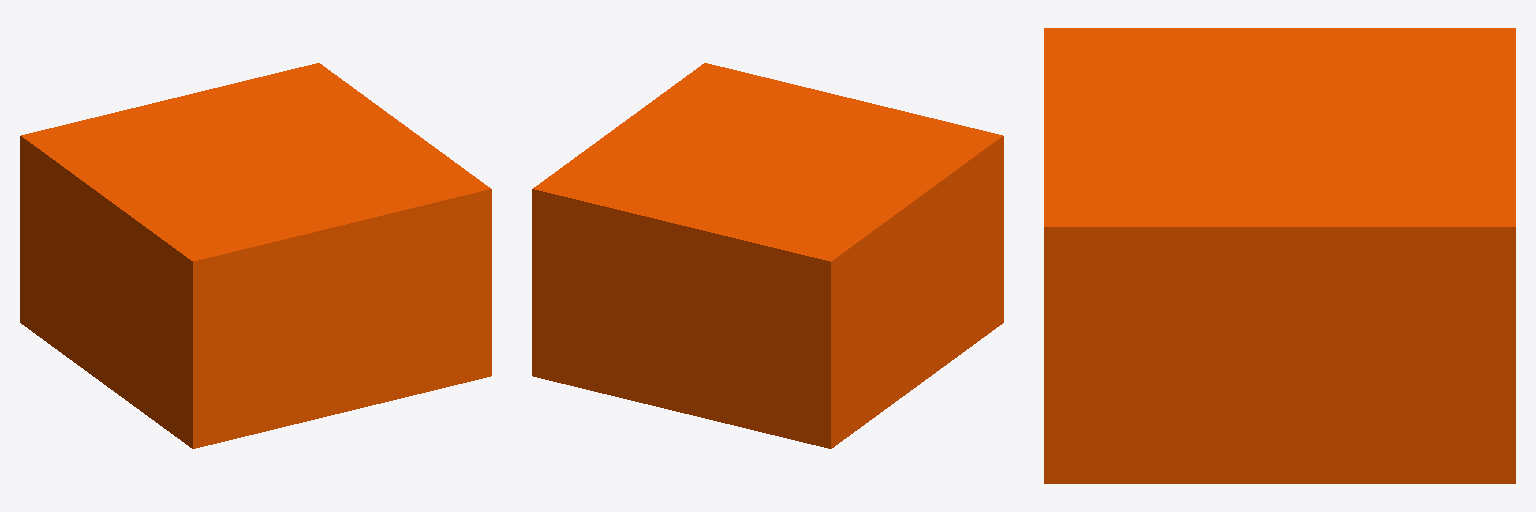
URDF robot description (boxbot):
<?xml version="1.0" ?>
<!-- =================================================================================== -->
<!-- |    This document was autogenerated by xacro from boxbot.xacro                   | -->
<!-- |    EDITING THIS FILE BY HAND IS NOT RECOMMENDED                                 | -->
<!-- =================================================================================== -->
<!-- Revolute-Revolute Manipulator -->
<robot name="boxbot" xmlns:xacro="http://www.ros.org/wiki/xacro">
  <!-- Link 1 -->
  <!-- Link1 -->
  <gazebo reference="link1">
    <mu1>0.2</mu1>
    <mu2>0.2</mu2>
    <kp value="10000000.0"/>
    <kd value="1.0"/>
    <fdir1 value="1 0 0"/>
    <minDepth>0.003</minDepth>
    <turnGravityOff>false</turnGravityOff>
    <material>Gazebo/Orange</material>
  </gazebo>
  <gazebo>
    <plugin filename="libgazebo_ros_force_based_move.so" name="base_drive_controller">
      <robotNamespace/>
      <commandTopic>cmd_vel</commandTopic>
      <odometryTopic>odom</odometryTopic>
      <publishOdometryTf>true</publishOdometryTf>
      <odometryFrame>odom</odometryFrame>
      <odometryRate>20.0</odometryRate>
      <robotBaseFrame>link1</robotBaseFrame>
      <!-- all these can be changed in dynamic reconfigure -->
      <yaw_velocity_p_gain>0.0</yaw_velocity_p_gain>
      <yaw_velocity_i_gain>0.0</yaw_velocity_i_gain>
      <yaw_velocity_i_clamp>00.0</yaw_velocity_i_clamp>
      <x_velocity_p_gain>0.0</x_velocity_p_gain>
      <x_velocity_i_gain>0.0</x_velocity_i_gain>
      <x_velocity_i_clamp>0.0</x_velocity_i_clamp>
      <y_velocity_p_gain>0.0</y_velocity_p_gain>
      <y_velocity_i_gain>0.0</y_velocity_i_gain>
      <y_velocity_i_clamp>0.0</y_velocity_i_clamp>
    </plugin>
  </gazebo>
  <material name="orange">
    <color rgba="1.0 0.423529411765 0.0392156862745 1.0"/>
  </material>
  <!-- Base Link -->
  <link name="link1">
    <collision>
      <origin rpy="0 0 0" xyz="0 0 0.15"/>
      <geometry>
        <box size="0.5 0.5 0.3"/>
      </geometry>
    </collision>
    <visual>
      <origin rpy="0 0 0" xyz="0 0 0.15"/>
      <geometry>
        <box size="0.5 0.5 0.3"/>
      </geometry>
      <material name="orange"/>
    </visual>
    <inertial>
      <origin rpy="0 0 0" xyz="0 0 0.15"/>
      <mass value="5"/>
      <inertia ixx="0.141666666667" ixy="0.0" ixz="0.0" iyy="0.141666666667" iyz="0.0" izz="0.208333333333"/>
    </inertial>
  </link>
</robot>

--- What the picture shows (computed from the rendered views, not written in the file) ---
The picture shows the robot from 3 angles, left to right: view 1: azimuth 30°, elevation 25°; view 2: azimuth 150°, elevation 25°; view 3: azimuth 270°, elevation 25°; orthographic projection.
Robot: boxbot — 1 links, 0 joints (none); root link link1; default pose: all joints at 0.
Links seen in each view (by area): view 1: link1; view 2: link1; view 3: link1.
Boxes of the visible links, x1,y1,x2,y2 form: link1: (20, 63, 491, 448); link1: (532, 63, 1003, 448); link1: (1044, 28, 1515, 483).
Bounding box of the posed robot: 0.5 × 0.5 × 0.3 m (x, y, z).
Geometry: primitives only (box / cylinder / sphere), no mesh files.
